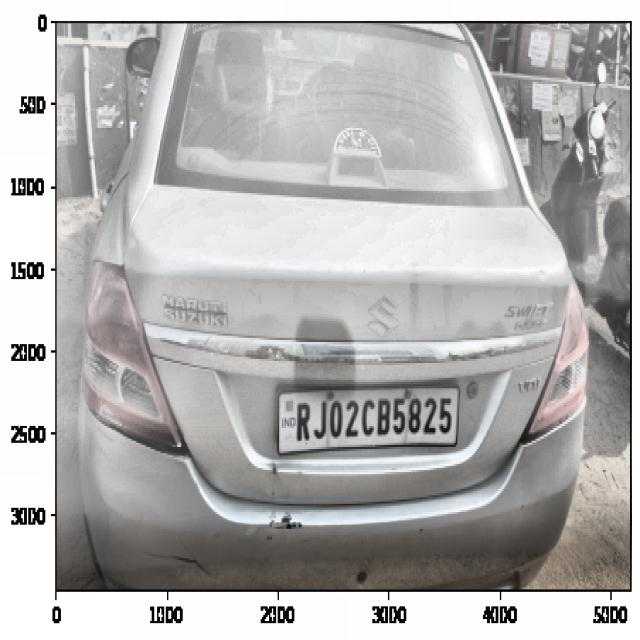license_plate: (292, 389, 456, 452)
